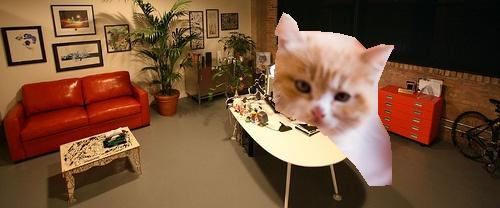tampered: (274, 13, 394, 186)
